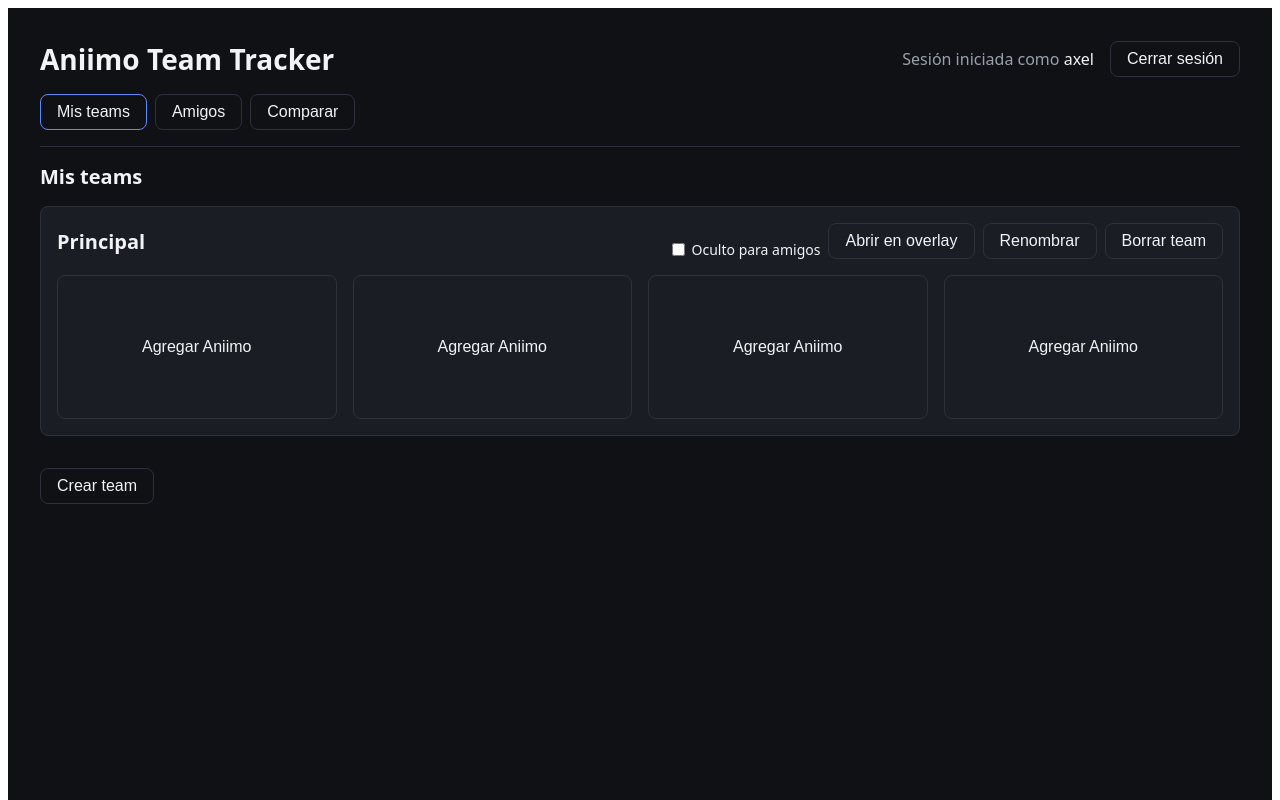
Test: crear team › propone Team N, envia el nombre elegido y recarga la lista
Expected: the heading "Mis teams" is shown, [40, 163, 142, 190]
Click the button "Crear team": (97, 486) [40, 468, 154, 504]
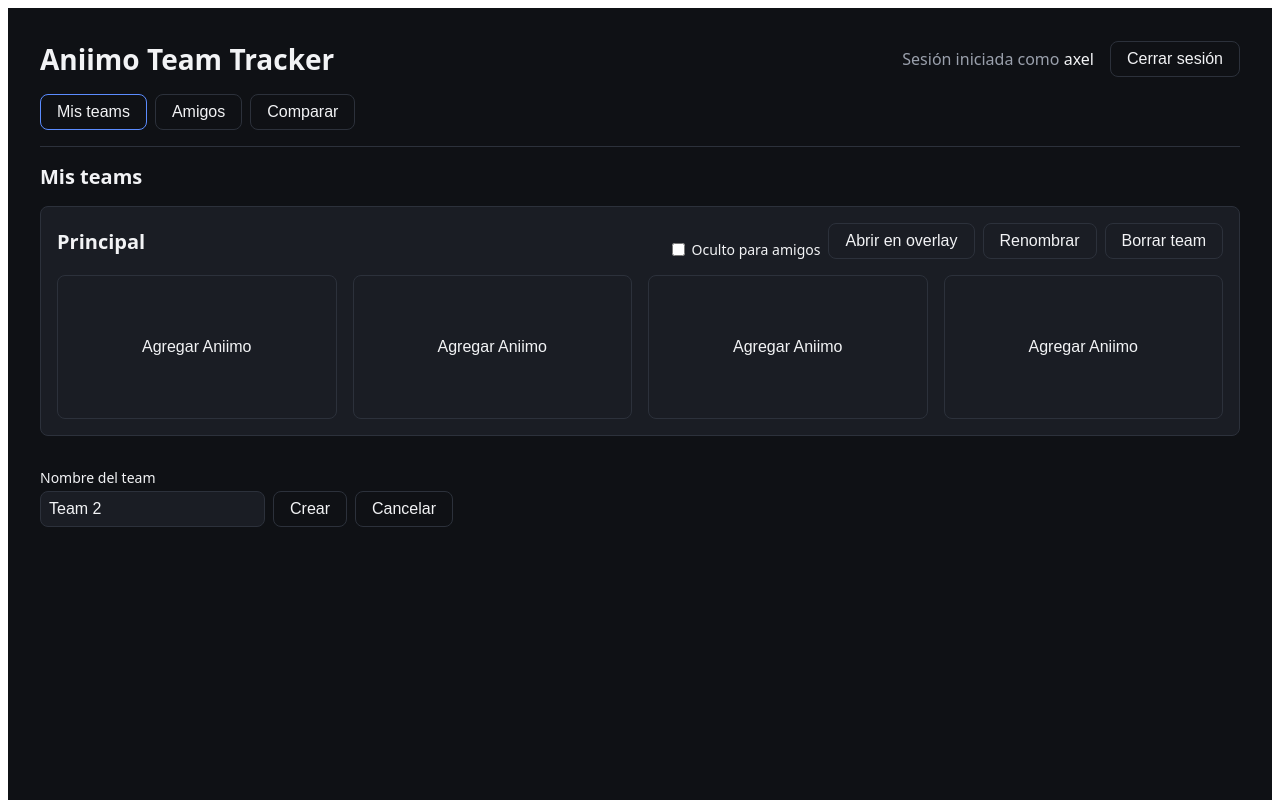
Expected: the field labelled "Nombre del team" holds "Team 2"
Replace the text in the field labelled "Nombre del team" with "Raid": (152, 509) [40, 491, 265, 527]
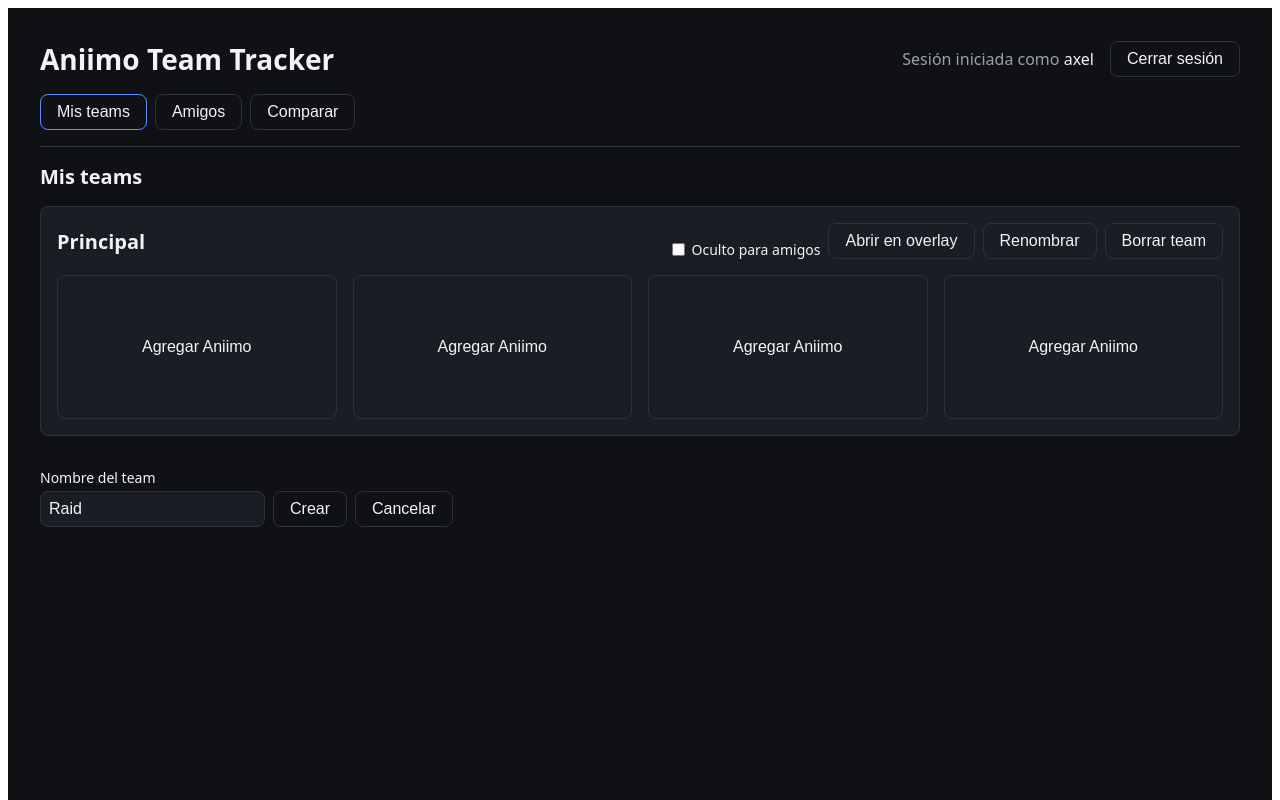
Click the button "Crear": (310, 509) [273, 491, 347, 527]
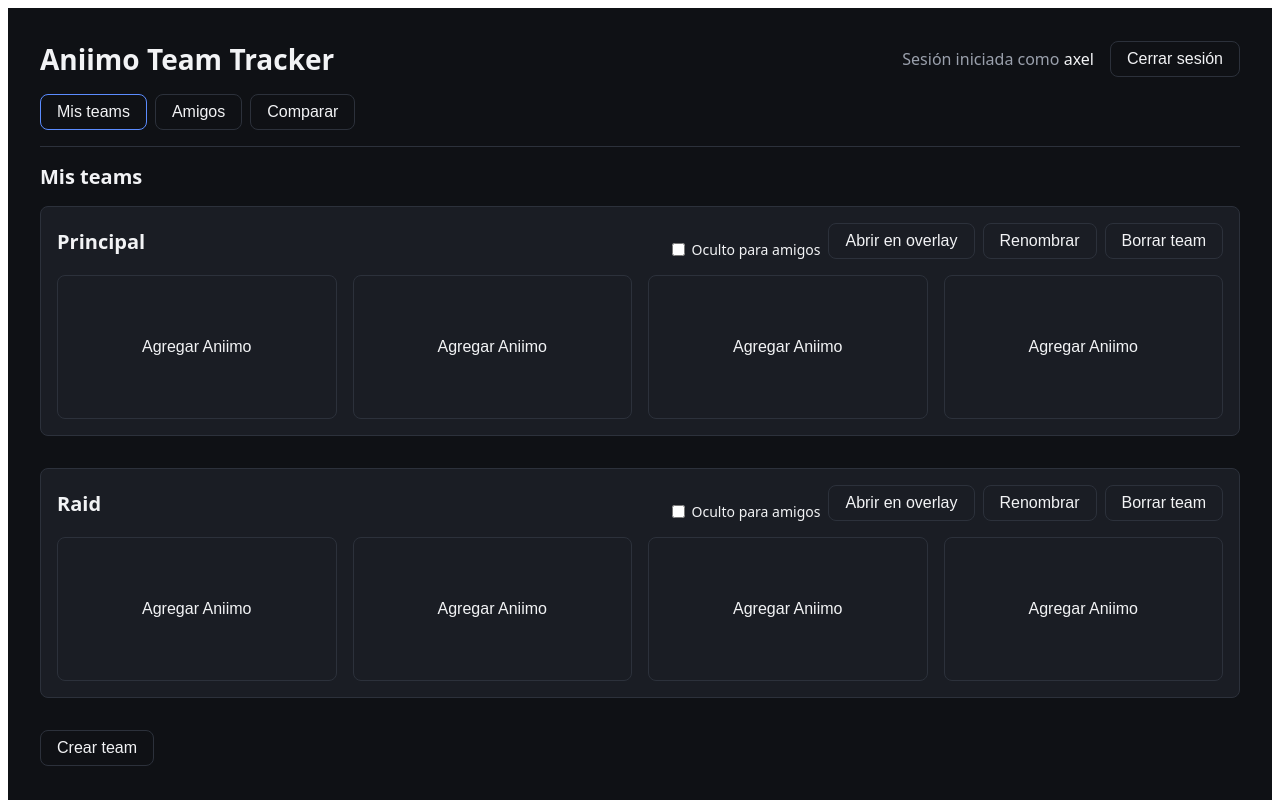
Expected: the heading "Raid" is shown, [57, 490, 101, 516]
